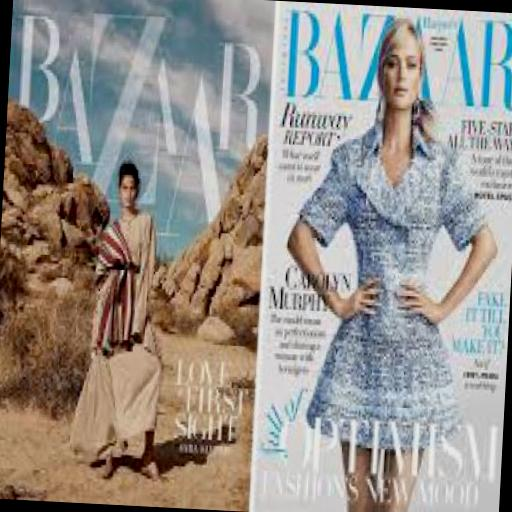paper: (0, 0, 273, 509), (251, 1, 512, 512)
